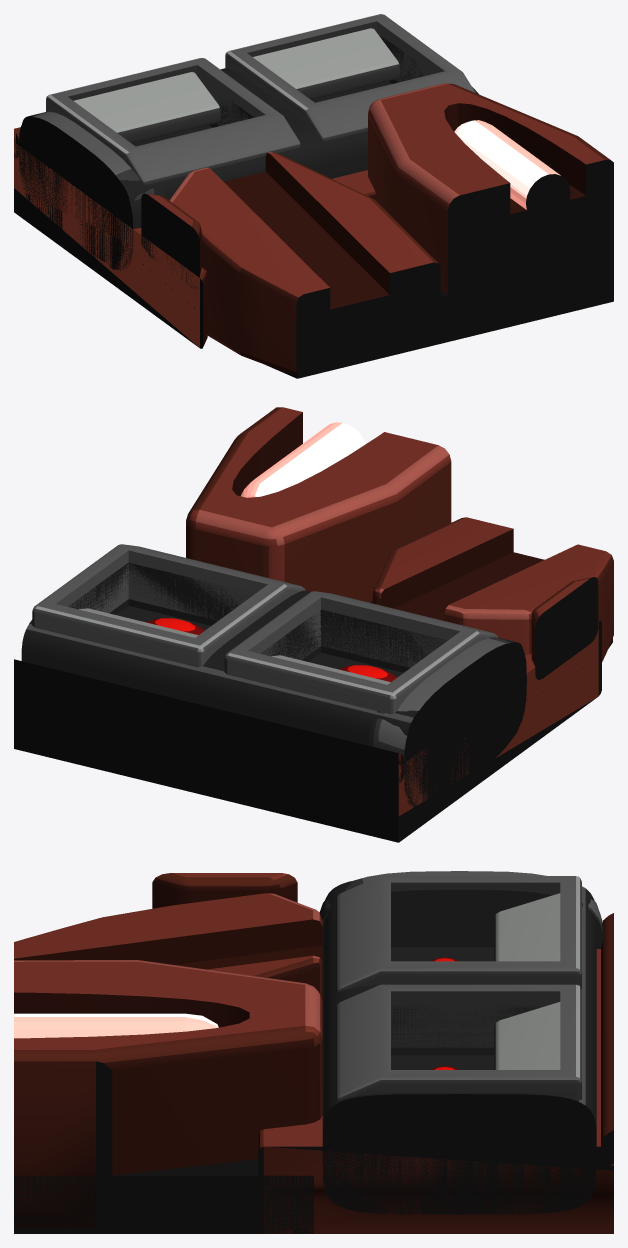
File: savara_boss_203.glb
3 renders of one model, top to bottom at view 1: azimuth 30°, elevation 25°; view 2: azimuth 150°, elevation 25°; view 3: azimuth 270°, elevation 25°, orthographic. The views are drawn at different scales.
Visible parts, largest first — view 1: savara_boss_203; view 2: savara_boss_203; view 3: savara_boss_203.
Part boxes in pixels (bbox=[...]): savara_boss_203: bbox=[14, 14, 613, 378]; savara_boss_203: bbox=[14, 407, 613, 842]; savara_boss_203: bbox=[14, 871, 613, 1233].
Size of the model in its own units: 24 by 9.2 by 28.
